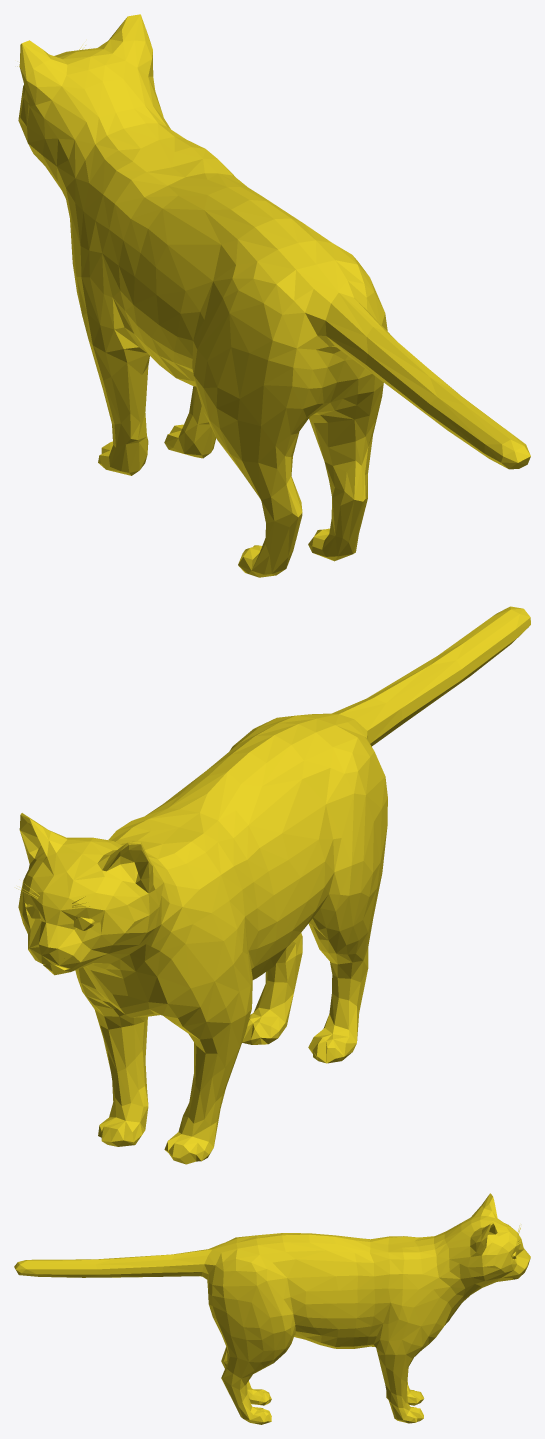
Rendered from cat.gltf.
The picture shows the model from 3 angles, top to bottom: view 1: azimuth 30°, elevation 25°; view 2: azimuth 150°, elevation 25°; view 3: azimuth 270°, elevation 25°; orthographic projection. The views are drawn at different scales.
Parts seen in each view (by area): view 1: cat; view 2: cat; view 3: cat.
Part boxes in pixels (bbox=[...]): cat: bbox=[17, 14, 530, 577]; cat: bbox=[16, 606, 530, 1164]; cat: bbox=[14, 1193, 530, 1424].
Bounding box in the file's own units: 2.89 × 6.62 × 15.24.
